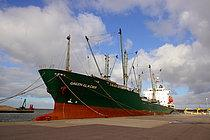Ship: (34, 28, 179, 120)
